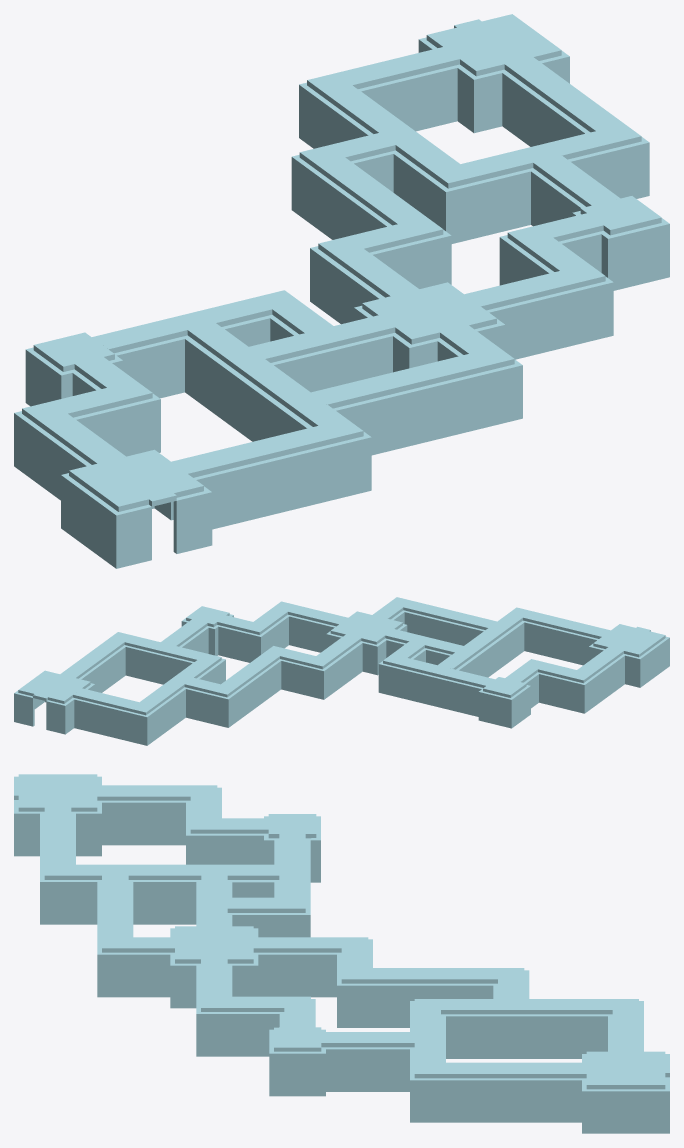
The model's file is layout2 1.fbx.
3 views of the same model, one above another, from view 1: azimuth 30°, elevation 25°; view 2: azimuth 150°, elevation 25°; view 3: azimuth 270°, elevation 25° (orthographic). The views are drawn at different scales.
Parts seen in each view (by area): view 1: Cube, Cube.001; view 2: Cube, Cube.001; view 3: Cube, Cube.001.
Part boxes in pixels (<box>): Cube: <box>14,37,669,568</box>; Cube.001: <box>22,14,661,511</box>; Cube: <box>14,610,669,745</box>; Cube.001: <box>18,597,665,715</box>; Cube: <box>14,776,669,1133</box>; Cube.001: <box>14,774,669,1089</box>.
Size of the model in its own units: 1588 by 110 by 1399.
